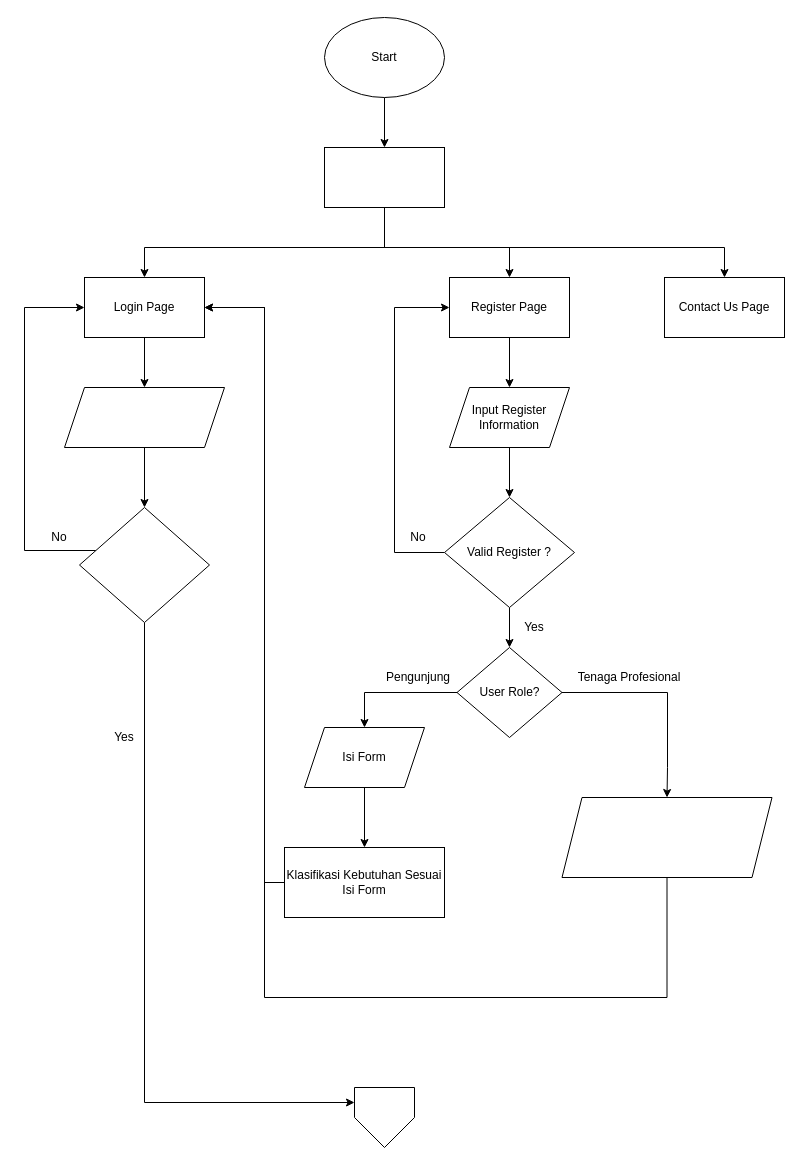
The diagram is 802 pixels wide and 1165 high, and some of its shapes have lost their labels. The centre of each missing label's shape, as x and y in pixels:
"Input Login Information" belongs at (x=144, y=417).
"Isi spesialitas, jadwal kosong, pendidikan, dll" belongs at (x=666, y=837).
"Main Page" belongs at (x=384, y=177).
"Valid Login?" belongs at (x=144, y=564).
